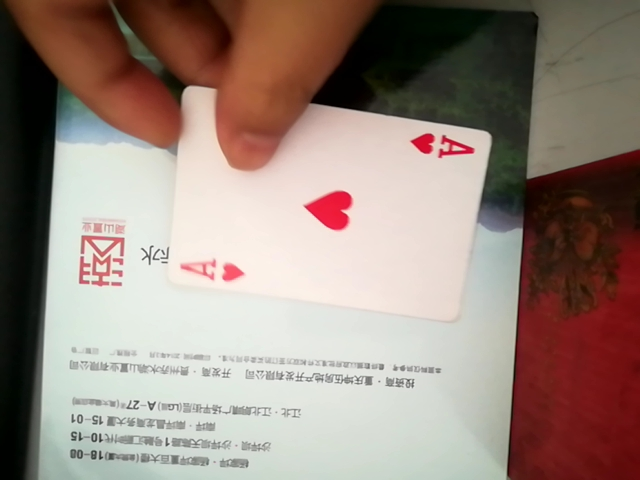hx a: (139, 99, 506, 327)
